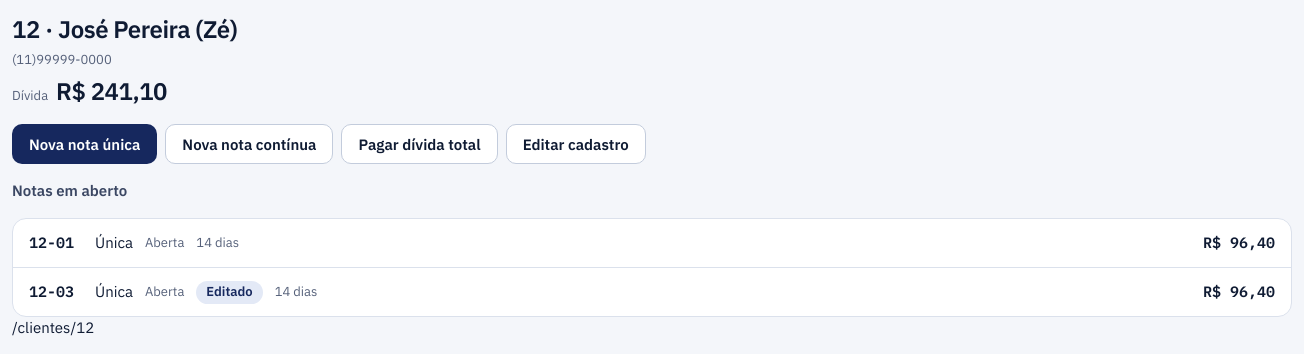
Test: TelaCliente › clicar numa nota abre a gaveta dela
Click the button "12-03 Única Aberta Editado 14 dias R$ 96,40" at {"x": 52, "y": 292}, box [13,268,1291,316]
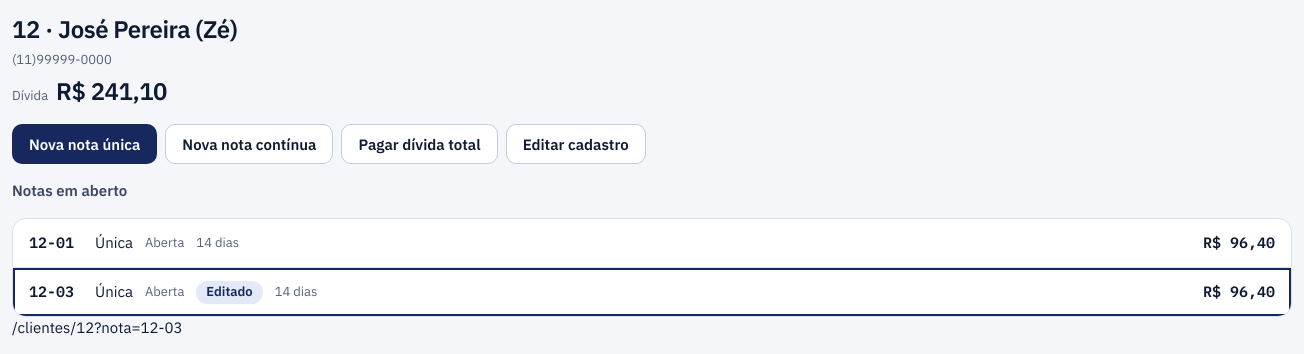
Check: the text with test id "local" reads "/clientes/12?nota=12-03", box [12,318,182,337]
